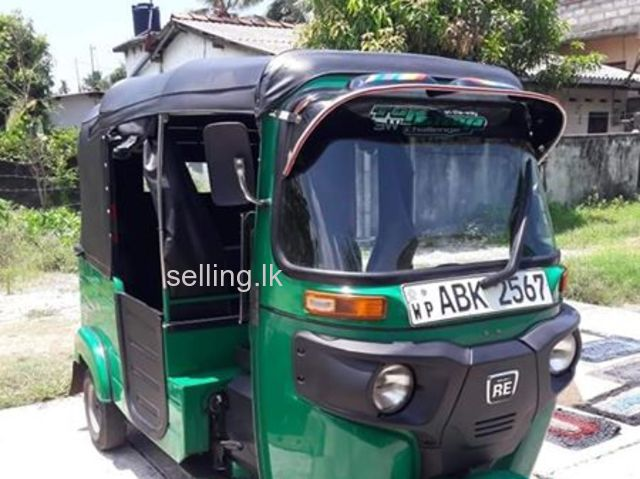threewheel: (71, 52, 583, 479)
